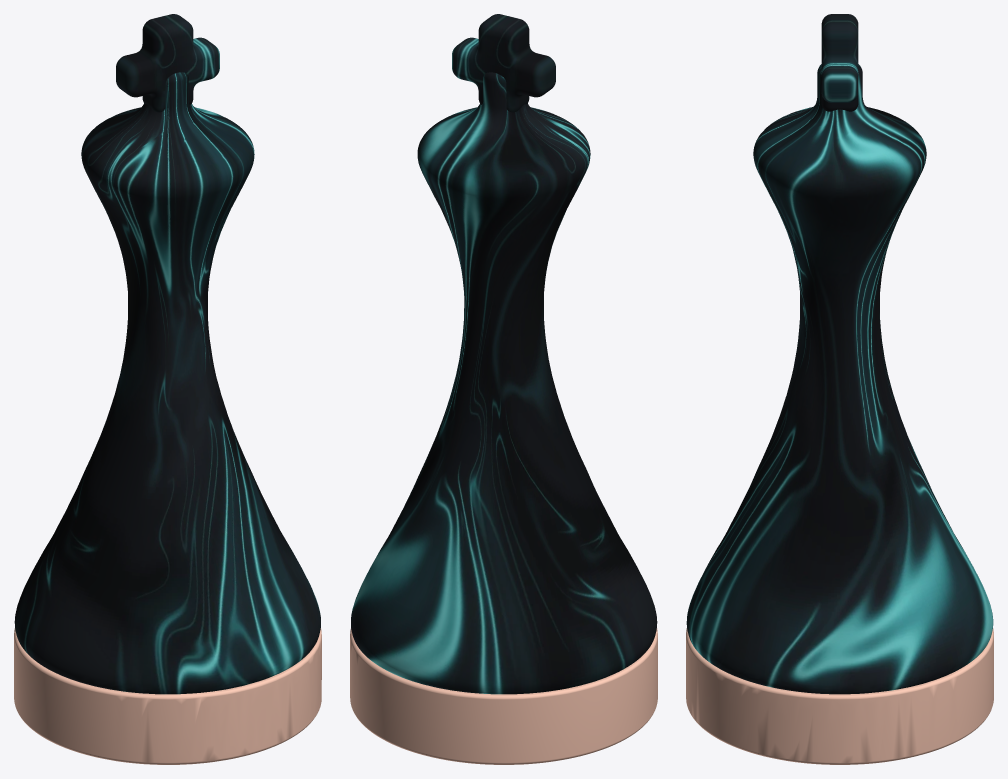
Rendered from king-black-hd.glb.
The picture shows the model from 3 angles, left to right: view 1: azimuth 30°, elevation 25°; view 2: azimuth 150°, elevation 25°; view 3: azimuth 270°, elevation 25°; orthographic projection.
Visible parts, largest first — view 1: kral_cerna; view 2: kral_cerna; view 3: kral_cerna.
Boxes of the visible parts, x1=… form: kral_cerna: x1=14, y1=14, x2=321, y2=764; kral_cerna: x1=350, y1=14, x2=657, y2=764; kral_cerna: x1=686, y1=14, x2=993, y2=764.
Bounding box in the file's own units: 0.6754 × 1.65 × 0.6754.
Materials: 2 (1 with a texture image).
